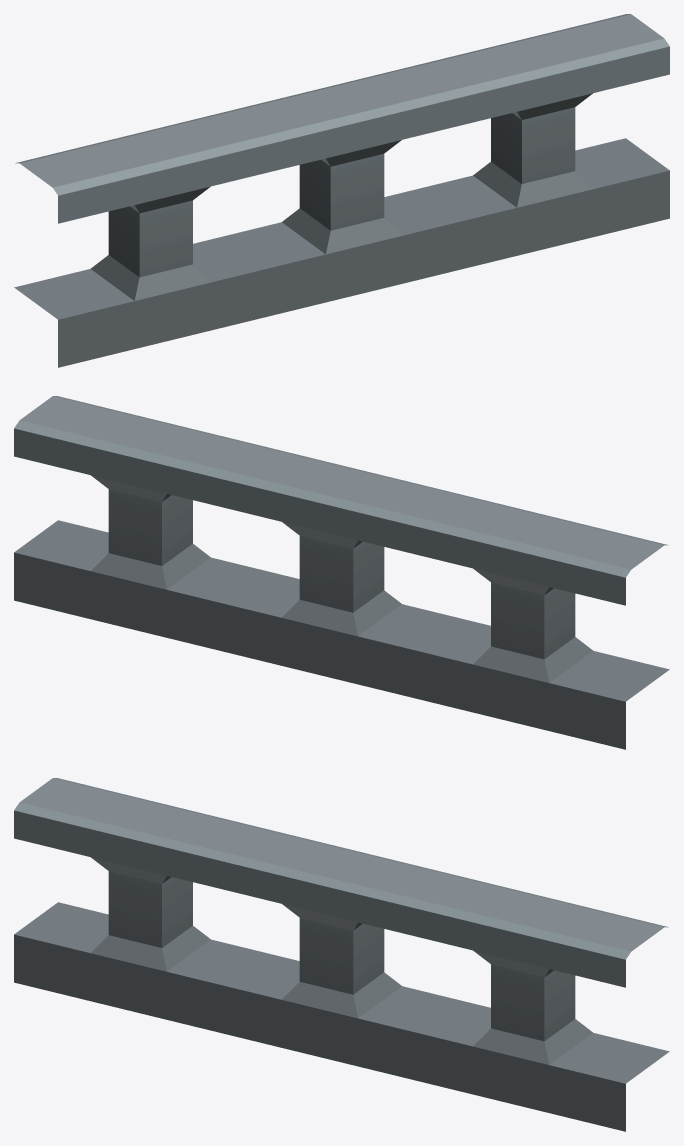
The model's file is barrier.glb.
3 views of the same model, one above another, from view 1: azimuth 30°, elevation 25°; view 2: azimuth 150°, elevation 25°; view 3: azimuth 330°, elevation 25° (orthographic).
Visible parts, largest first — view 1: barrier; view 2: barrier; view 3: barrier.
Boxes of the visible parts, bbox=[...] form: barrier: bbox=[14, 14, 669, 367]; barrier: bbox=[14, 396, 669, 749]; barrier: bbox=[14, 778, 669, 1131].
Size of the model in its own units: 4 by 1.1 by 0.5.
Materials: 1 (1 with a texture image).
